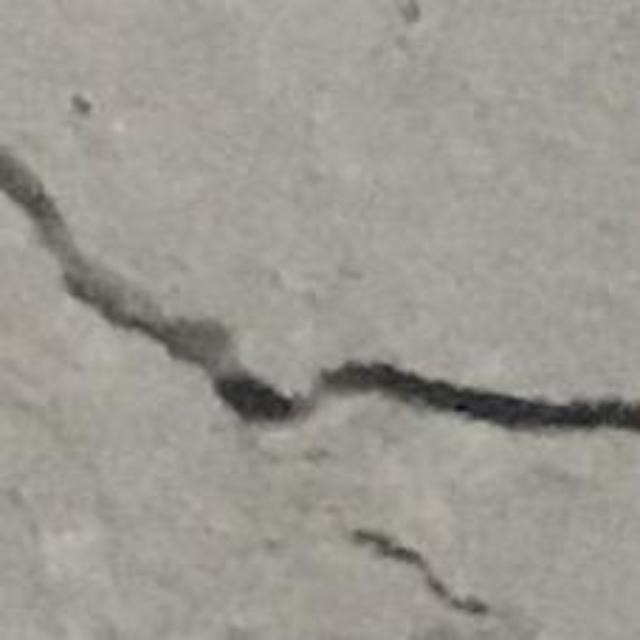crack: (0, 144, 639, 434)
